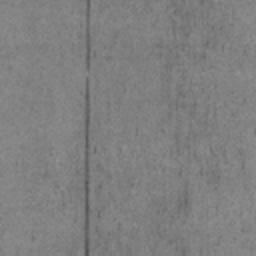Scratches: (84, 76, 92, 256), (84, 0, 92, 72)
